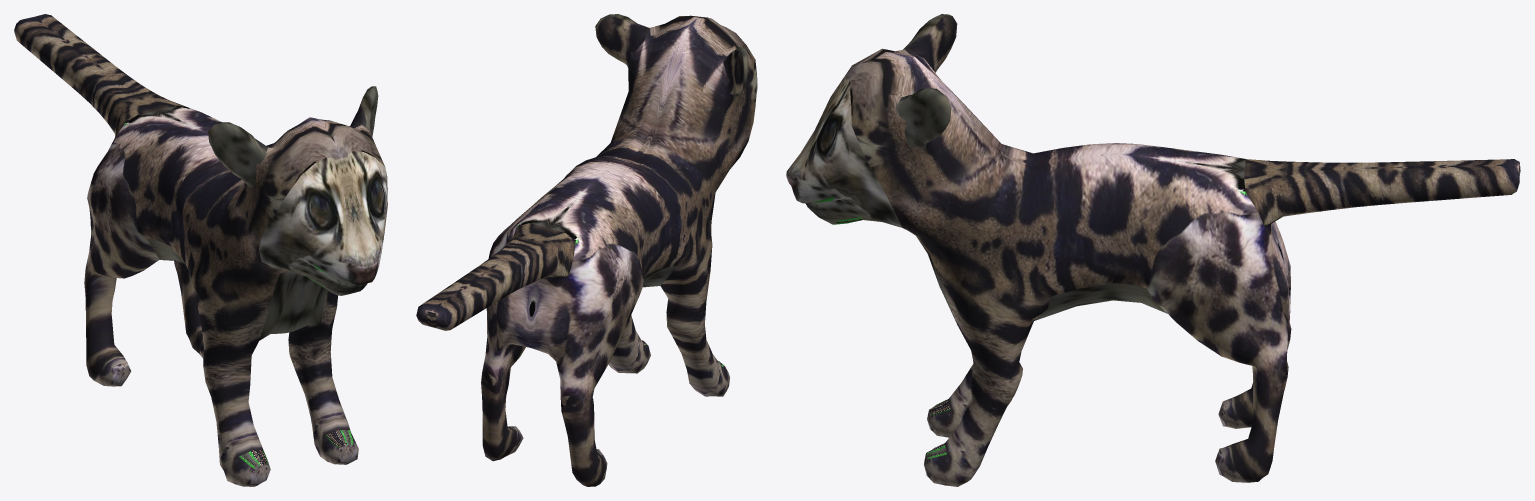
Rendered from Margay_Model.FBX.
3 views of the same model, side by side, from view 1: azimuth 30°, elevation 25°; view 2: azimuth 150°, elevation 25°; view 3: azimuth 270°, elevation 25° (orthographic). The views are drawn at different scales.
Parts seen in each view (by area): view 1: Box002; view 2: Box002; view 3: Box002.
Part boxes in pixels (x1,y1,x2,y2): Box002: [14, 14, 387, 486]; Box002: [416, 14, 757, 486]; Box002: [786, 14, 1520, 486].
Size of the model in its own units: 14.35 by 30.73 by 50.16.
Materials: 1 (1 with a texture image).
